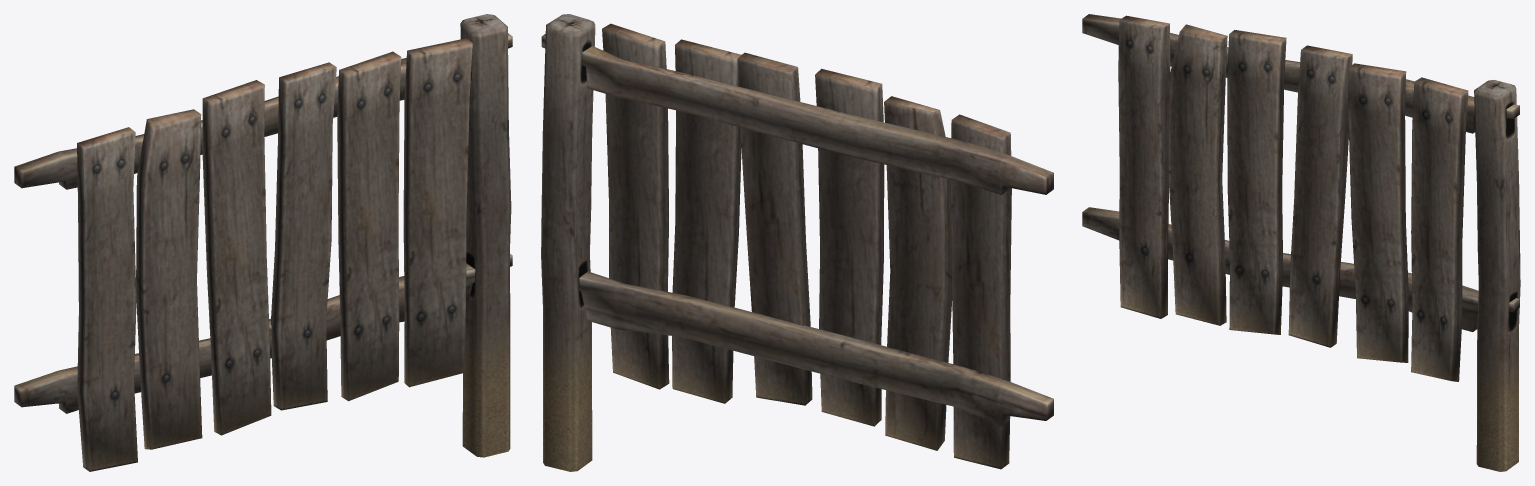
Rendered from Fence_straight 2.glb.
3 renders of one model, left to right at view 1: azimuth 30°, elevation 25°; view 2: azimuth 150°, elevation 25°; view 3: azimuth 330°, elevation 25°, orthographic. The views are drawn at different scales.
Parts seen in each view (by area): view 1: wall_wood_straight; view 2: wall_wood_straight; view 3: wall_wood_straight.
Boxes of the visible parts, <box> form: wall_wood_straight: <box>14,14,512,471</box>; wall_wood_straight: <box>541,14,1053,471</box>; wall_wood_straight: <box>1082,14,1520,471</box>.
Size of the model in its own units: 0.0164 by 0.0137 by 0.00176.
1 material, 1 textured.
